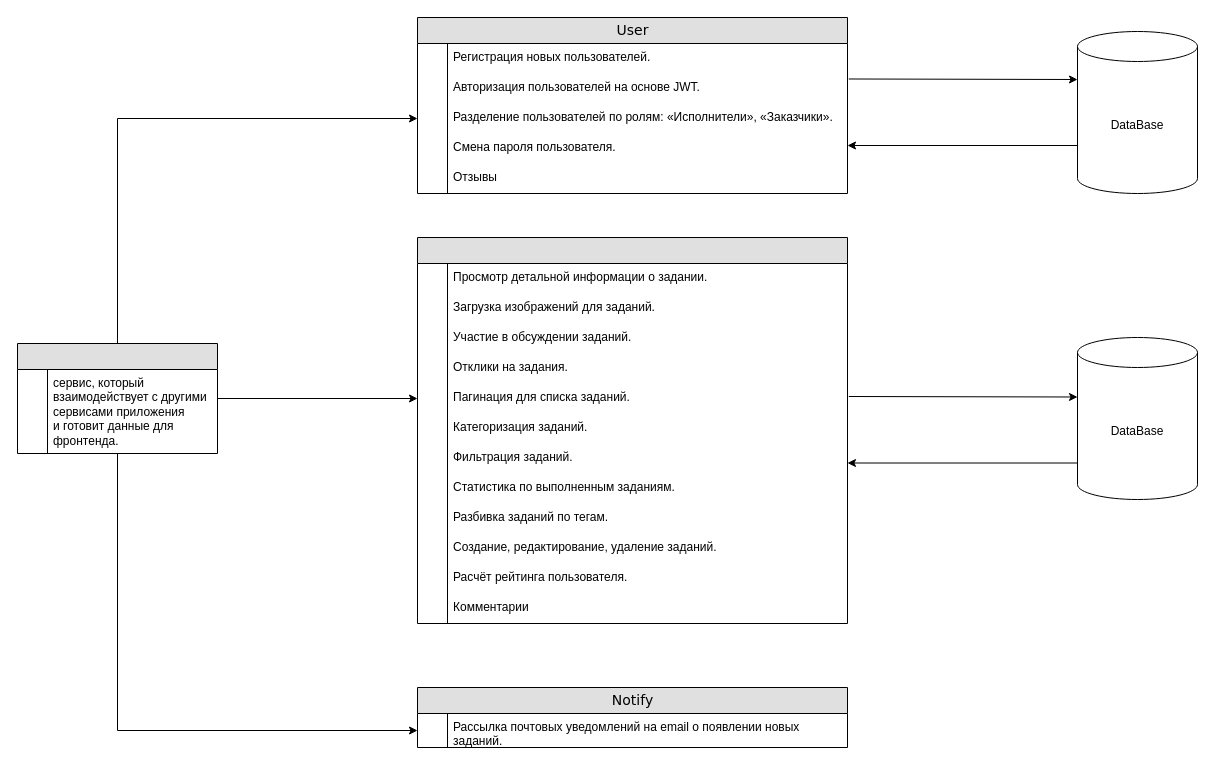
Image size: 1215x768. Some labels were removed from this diagram. The shapes that lost their labels are listed below. From the top down, each one's box as (x1, y1, x2, y2) in pixels, then its label:
(16, 342, 218, 454): BFF
(416, 236, 848, 624): Task
